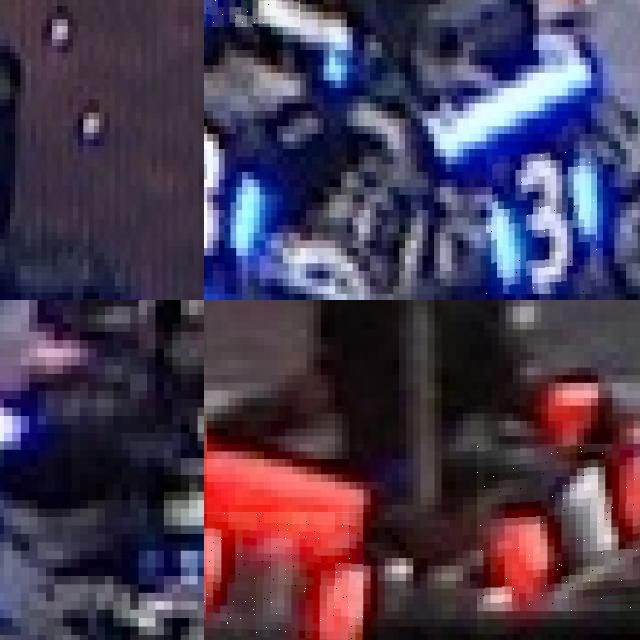B3: (486, 149, 597, 294), (204, 118, 259, 271)
R1: (477, 443, 640, 611), (204, 512, 363, 640)
